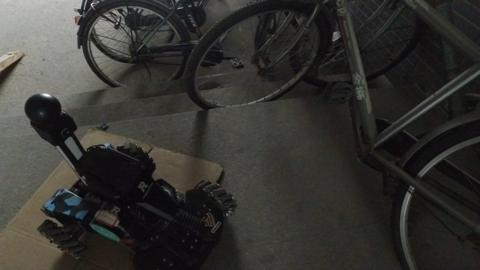chariot: (23, 90, 239, 269)
